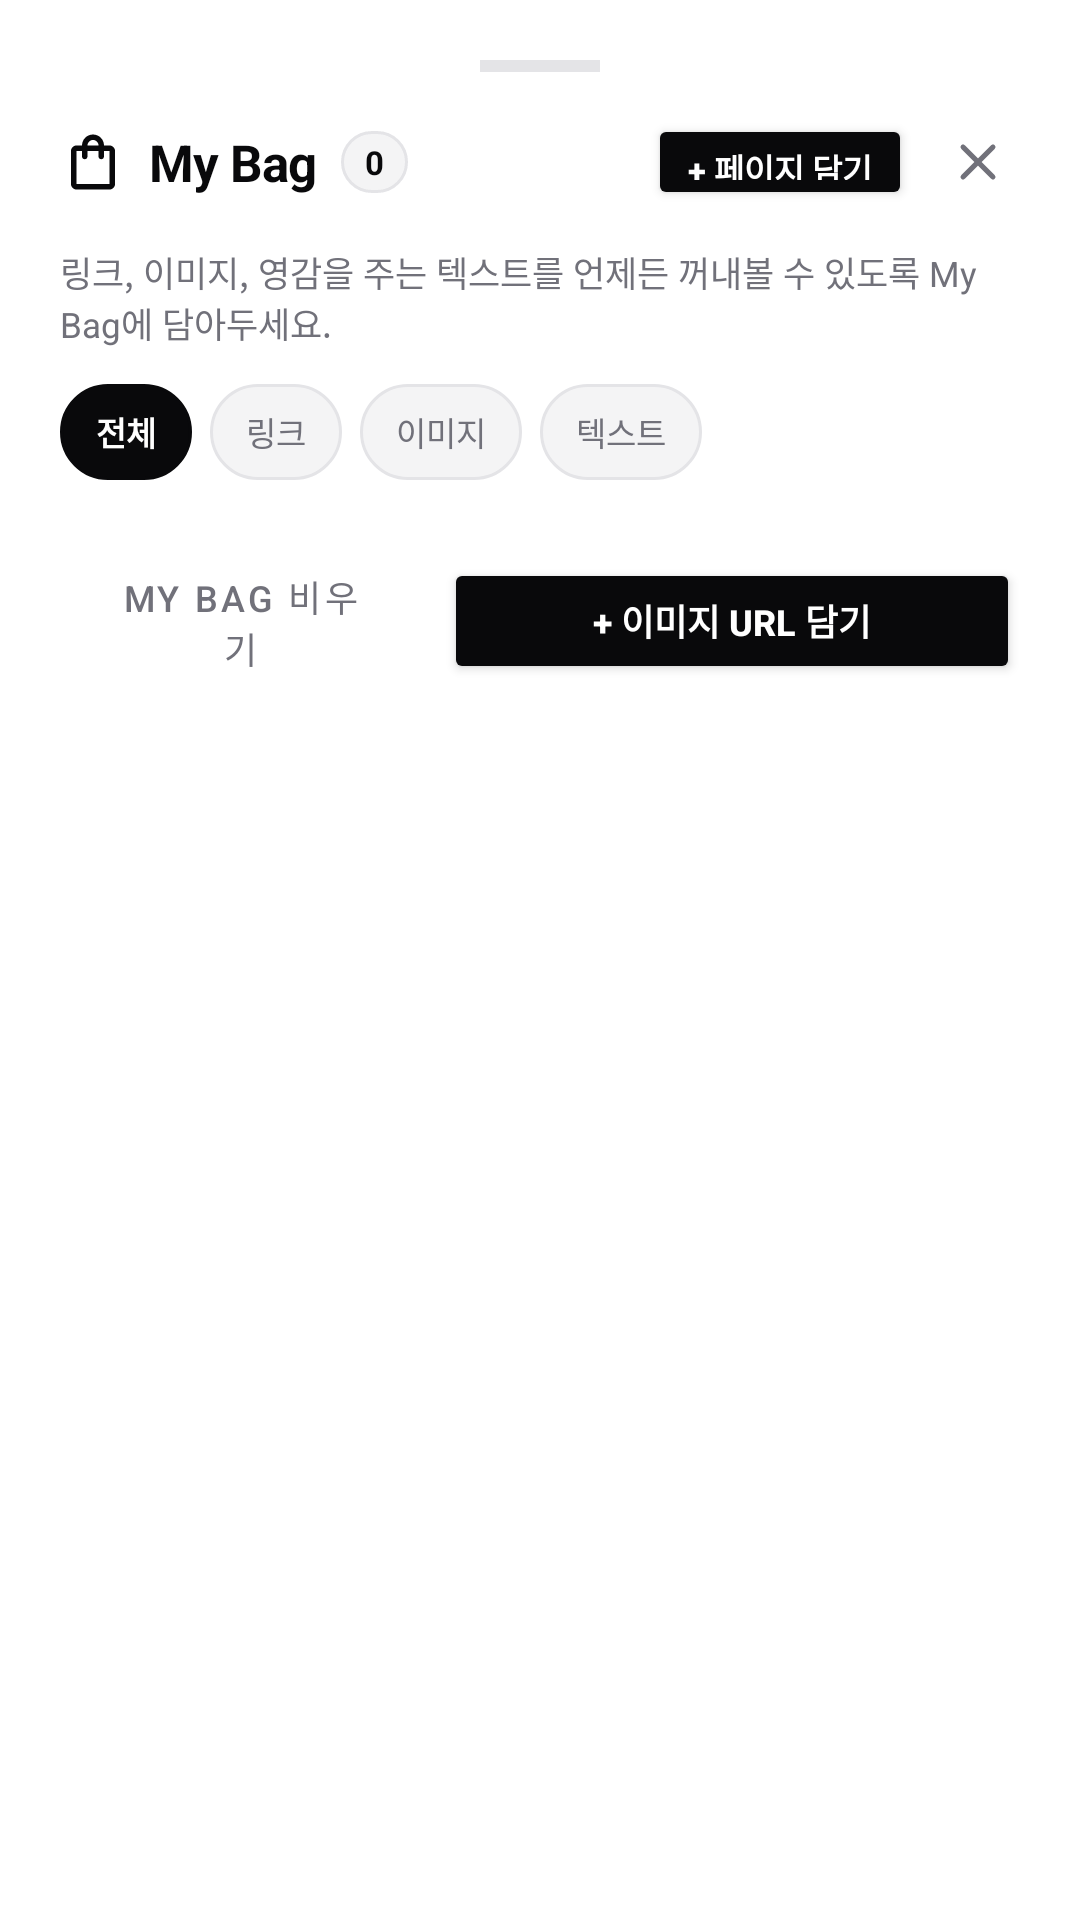

Named icons in this screenshot (1080*1920) and their bounding boxes, (x1, y1, x2, y2):
Close: (960, 144, 996, 180)
